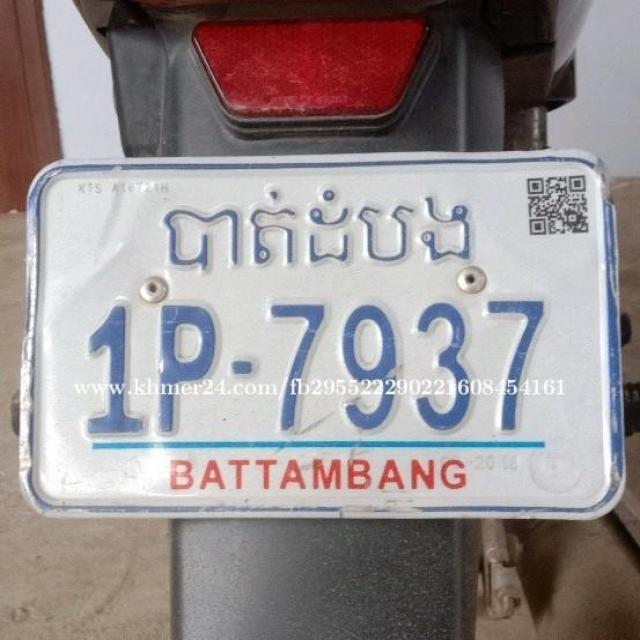Battambang: (154, 186, 486, 276)
